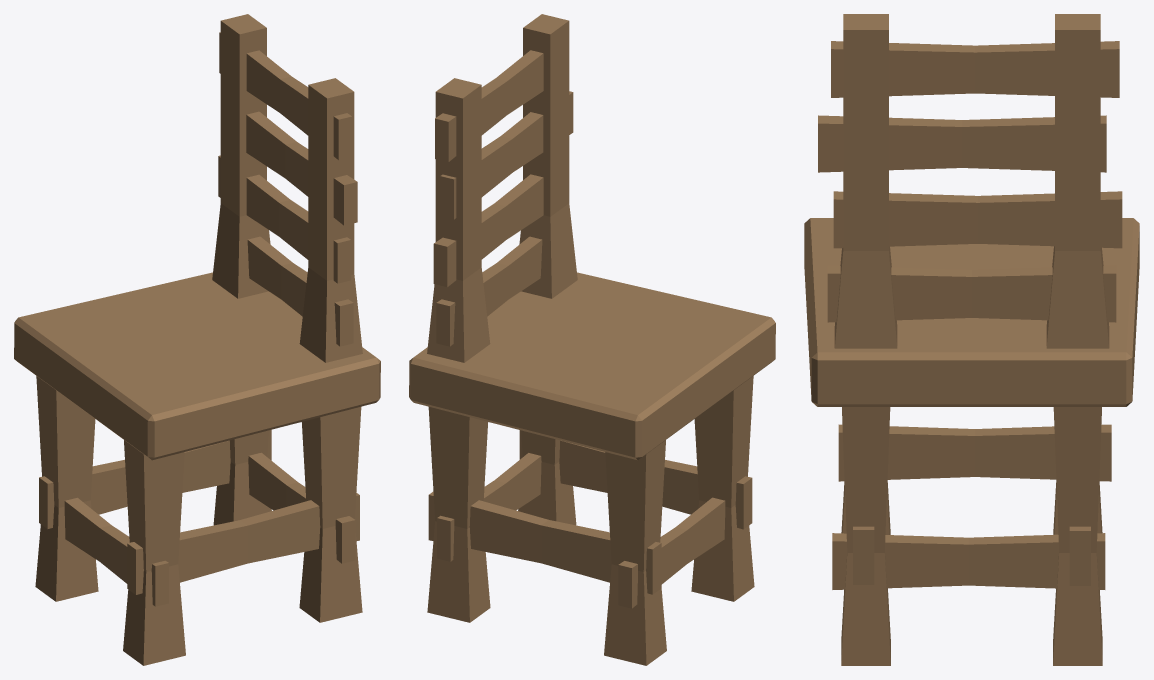
Rendered from SM_Chair.fbx.
3 views of the same model, side by side, from view 1: azimuth 30°, elevation 25°; view 2: azimuth 150°, elevation 25°; view 3: azimuth 270°, elevation 25° (orthographic). The views are drawn at different scales.
Visible parts, largest first — view 1: SM_Chair_LOD0; view 2: SM_Chair_LOD0; view 3: SM_Chair_LOD0.
Part boxes in pixels (bbox=[...]): SM_Chair_LOD0: bbox=[14, 14, 380, 665]; SM_Chair_LOD0: bbox=[409, 14, 775, 665]; SM_Chair_LOD0: bbox=[804, 14, 1139, 665].
Bounding box in the file's own units: 50.4 × 51.22 × 106.
Materials: 1 (1 with a texture image).
